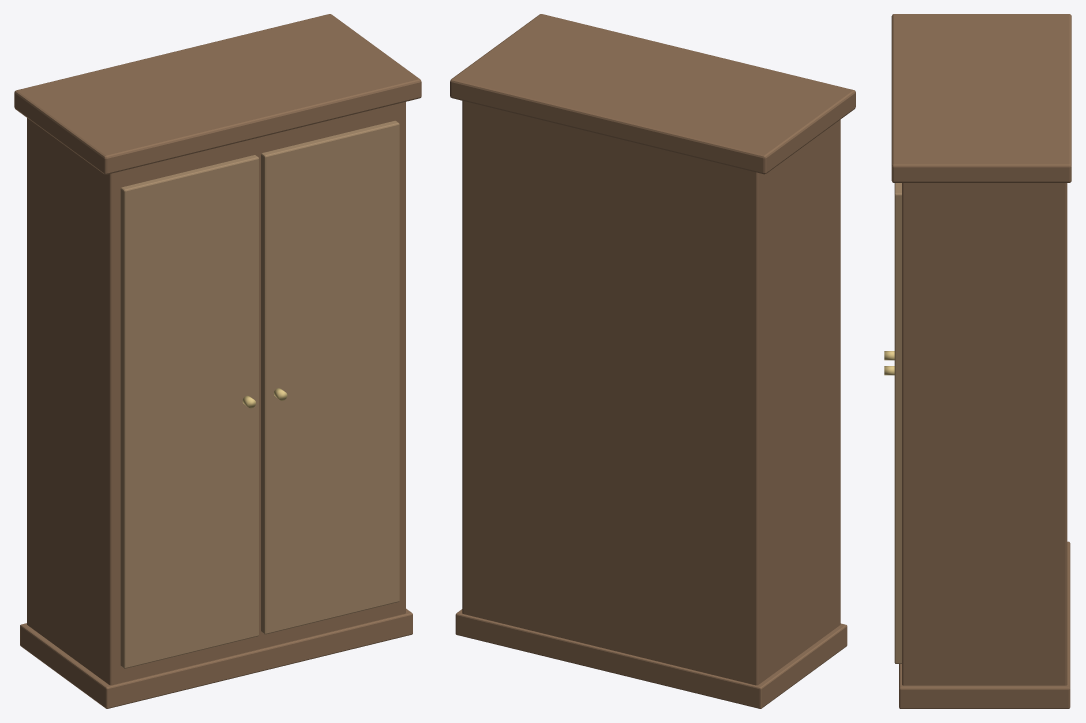
Rendered from wardrobe_cabinet.glb.
3 views of the same model, side by side, from view 1: azimuth 30°, elevation 25°; view 2: azimuth 150°, elevation 25°; view 3: azimuth 270°, elevation 25° (orthographic).
Visible parts, largest first — view 1: Door_1, Door_-1, Carcass, Crown, Plinth; view 2: Carcass, Crown, Plinth; view 3: Carcass, Crown, Plinth, Door_1.
Boxes of the visible parts, x1,y1,x2,y2 form: Door_1: (261,120,399,634); Door_-1: (120,155,258,668); Carcass: (27,102,405,685); Crown: (14,14,421,174); Plinth: (20,608,412,708); Carcass: (462,101,840,685); Crown: (450,14,855,174); Plinth: (455,609,847,708); Carcass: (902,183,1067,685); Crown: (891,14,1071,182); Plinth: (899,541,1070,708); Door_1: (894,183,901,663).
Bounding box in the file's own units: 1.22 × 2.04 × 0.635.
